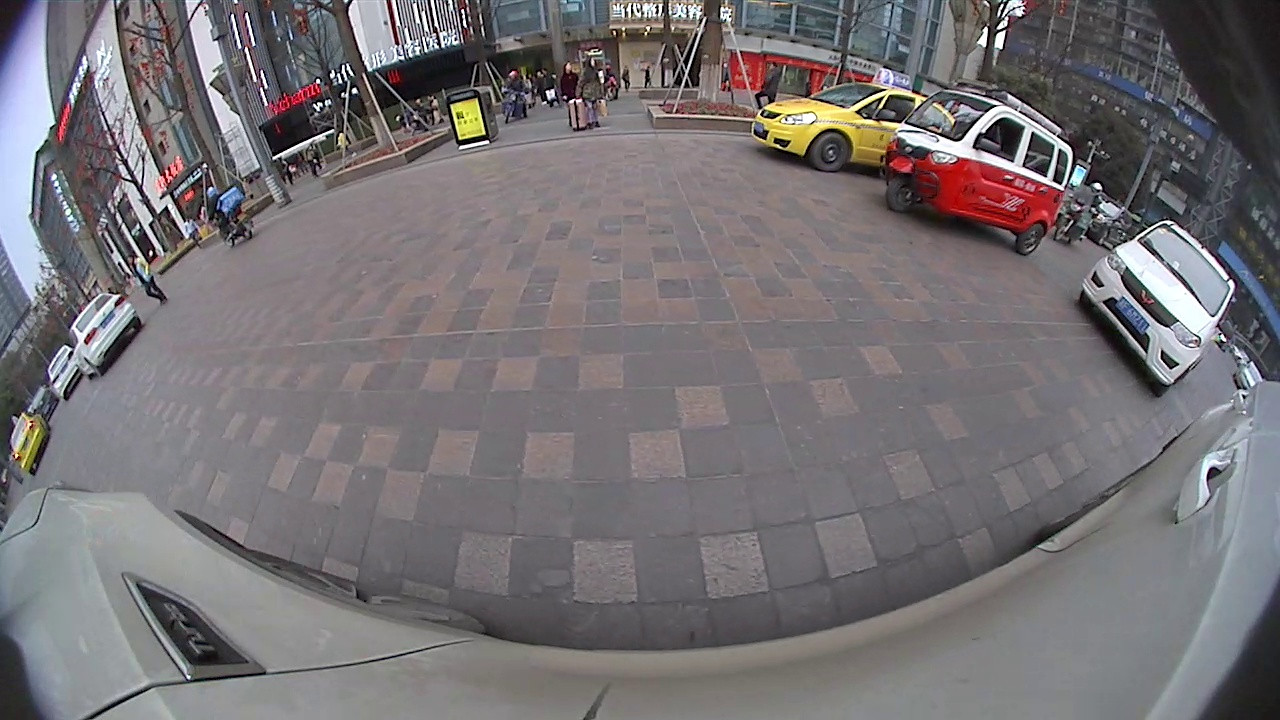car: (1076, 218, 1237, 400), (748, 78, 933, 177), (66, 289, 146, 380), (4, 408, 53, 478), (44, 342, 92, 403)
front: (809, 129, 852, 175), (884, 172, 920, 215)
person: (122, 253, 146, 310), (581, 53, 598, 125), (563, 59, 578, 110)
rear: (1016, 219, 1047, 260)
rider: (882, 85, 1077, 260), (203, 183, 251, 246)
